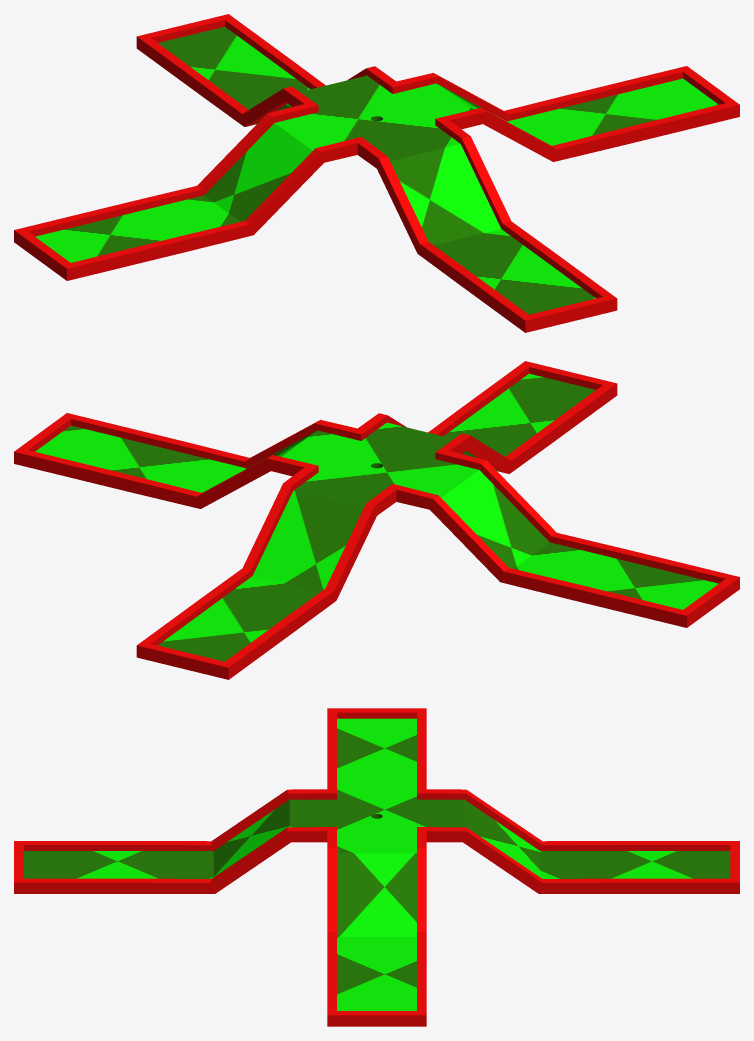
The model's file is Track12.fbx.
3 views of the same model, one above another, from view 1: azimuth 30°, elevation 25°; view 2: azimuth 150°, elevation 25°; view 3: azimuth 270°, elevation 25° (orthographic). The views are drawn at different scales.
Visible parts, largest first — view 1: Track12_Track, Track12_Boundary; view 2: Track12_Track, Track12_Boundary; view 3: Track12_Track, Track12_Boundary.
Part boxes in pixels (x1,y1,x2,y2): Track12_Track: (35, 26, 718, 314); Track12_Boundary: (14, 14, 739, 332); Track12_Track: (35, 373, 718, 661); Track12_Boundary: (14, 361, 739, 679); Track12_Track: (23, 718, 730, 1010); Track12_Boundary: (14, 708, 739, 1026).
Bounding box in the file's own units: 637 × 61 × 637.
